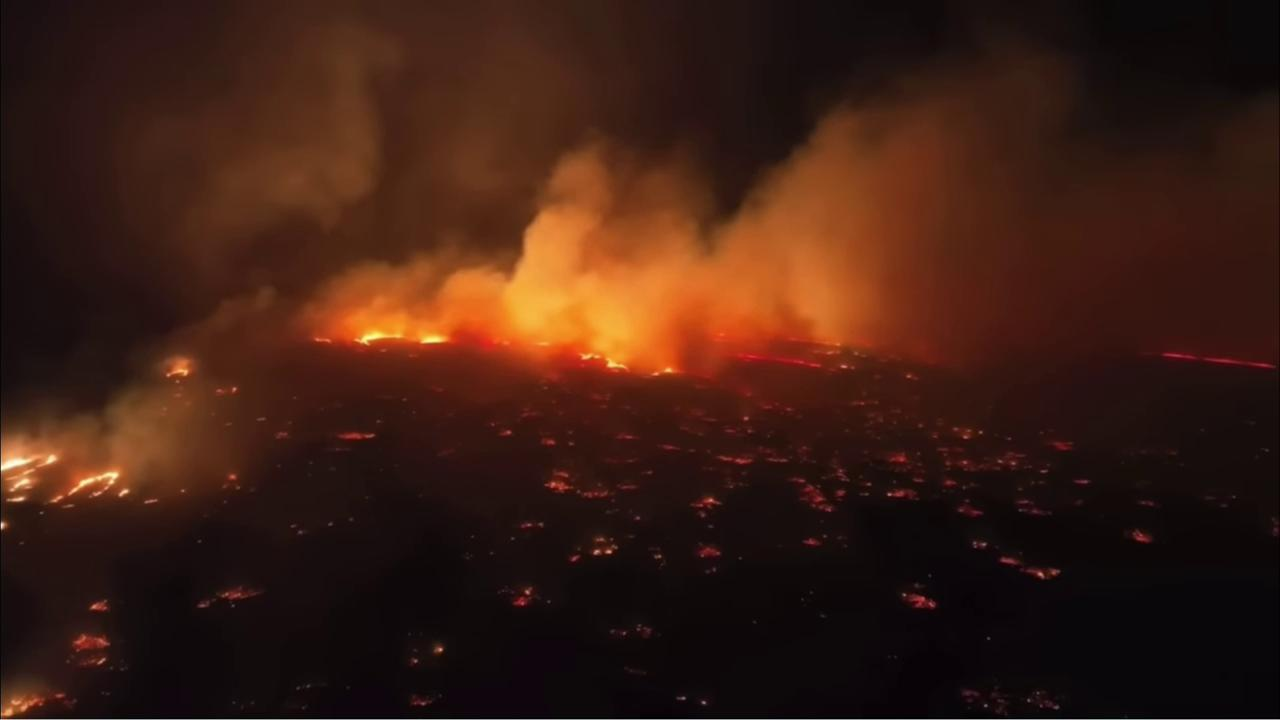fire: (0, 451, 132, 510), (1157, 348, 1277, 371), (939, 449, 1029, 477), (544, 466, 610, 503), (63, 628, 113, 676), (193, 581, 267, 613), (0, 689, 75, 720), (952, 681, 1013, 719), (784, 475, 839, 516), (871, 443, 929, 480), (997, 552, 1061, 584), (713, 444, 790, 468), (729, 353, 822, 369), (821, 447, 856, 485), (608, 616, 655, 644), (573, 352, 628, 372), (1024, 687, 1065, 713), (353, 328, 406, 348), (894, 588, 938, 612), (686, 492, 725, 519), (1011, 494, 1053, 518), (590, 531, 619, 558), (949, 502, 990, 521), (510, 584, 537, 611), (884, 484, 922, 502), (788, 335, 843, 347), (407, 690, 441, 708), (84, 595, 114, 615), (1126, 526, 1155, 546), (211, 379, 240, 398), (1048, 436, 1078, 454), (334, 430, 378, 441), (694, 542, 722, 559), (799, 534, 828, 550), (418, 332, 451, 346), (162, 364, 189, 380), (614, 429, 642, 442), (829, 487, 850, 504), (647, 365, 674, 378), (653, 441, 682, 452), (616, 477, 640, 490), (519, 519, 547, 530), (1071, 475, 1095, 487), (942, 479, 962, 493), (143, 495, 160, 509), (311, 336, 335, 345), (565, 550, 581, 563), (542, 436, 558, 448), (273, 430, 292, 440), (498, 428, 515, 439), (432, 644, 447, 655), (0, 518, 8, 538), (225, 472, 241, 481), (533, 341, 553, 348), (411, 656, 421, 668), (839, 363, 856, 370)
smoke: (0, 0, 1280, 668)
